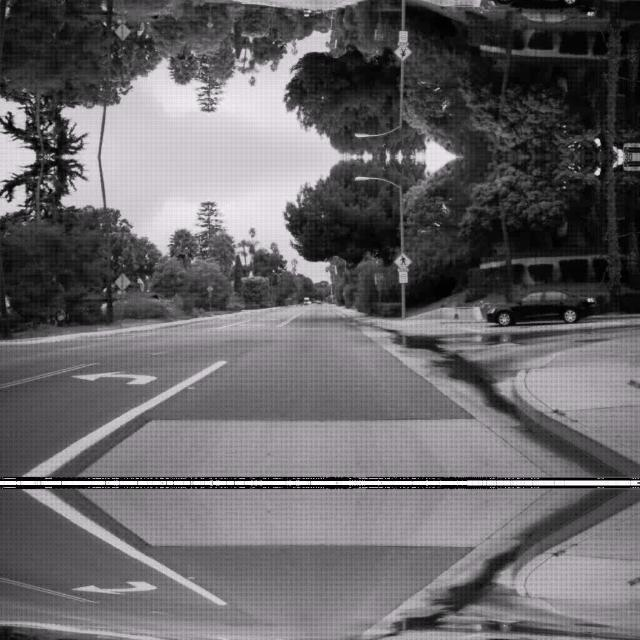pedestrianCrossing: (393, 252, 411, 268), (393, 44, 411, 60)
